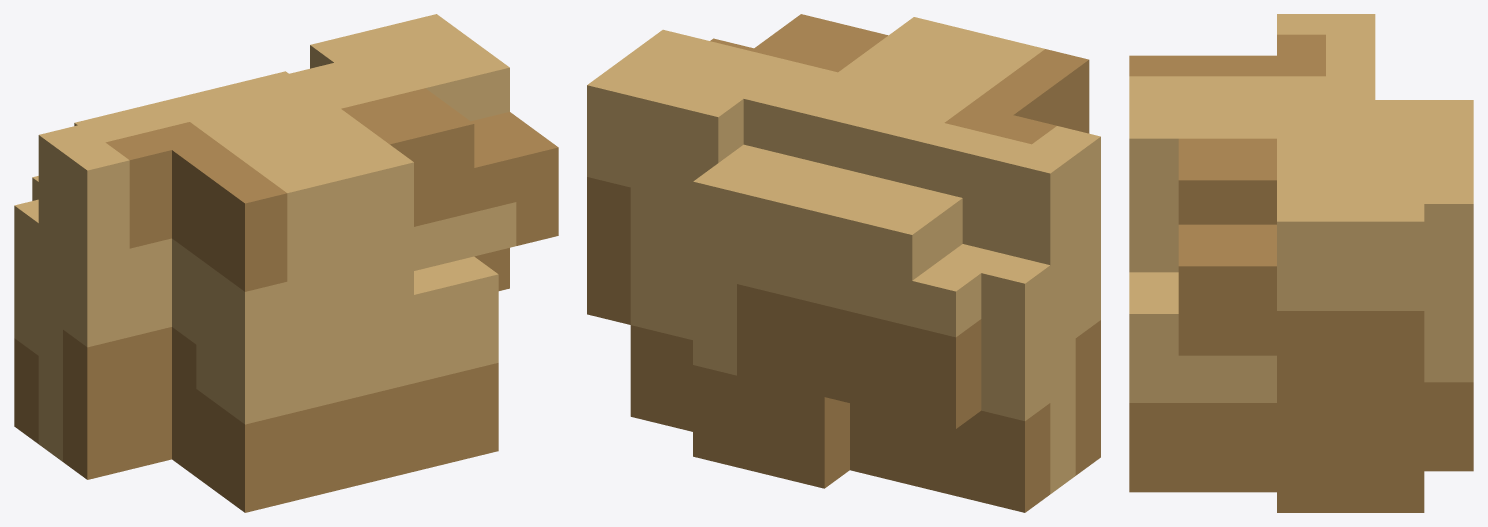
The model's file is Rock1.obj.
The picture shows the model from 3 angles, left to right: view 1: azimuth 30°, elevation 25°; view 2: azimuth 150°, elevation 25°; view 3: azimuth 270°, elevation 25°; orthographic projection. The views are drawn at different scales.
Size of the model in its own units: 1 by 0.7 by 0.7.
Materials: 1 (1 with a texture image).
